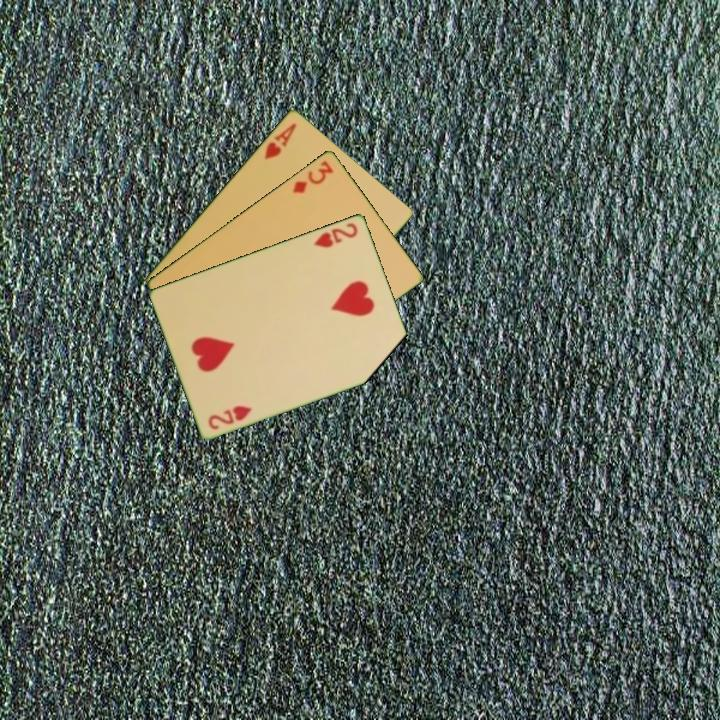2h: (204, 401, 255, 432), (311, 219, 361, 250)
3d: (289, 156, 337, 196)
Ah: (260, 119, 299, 162)
